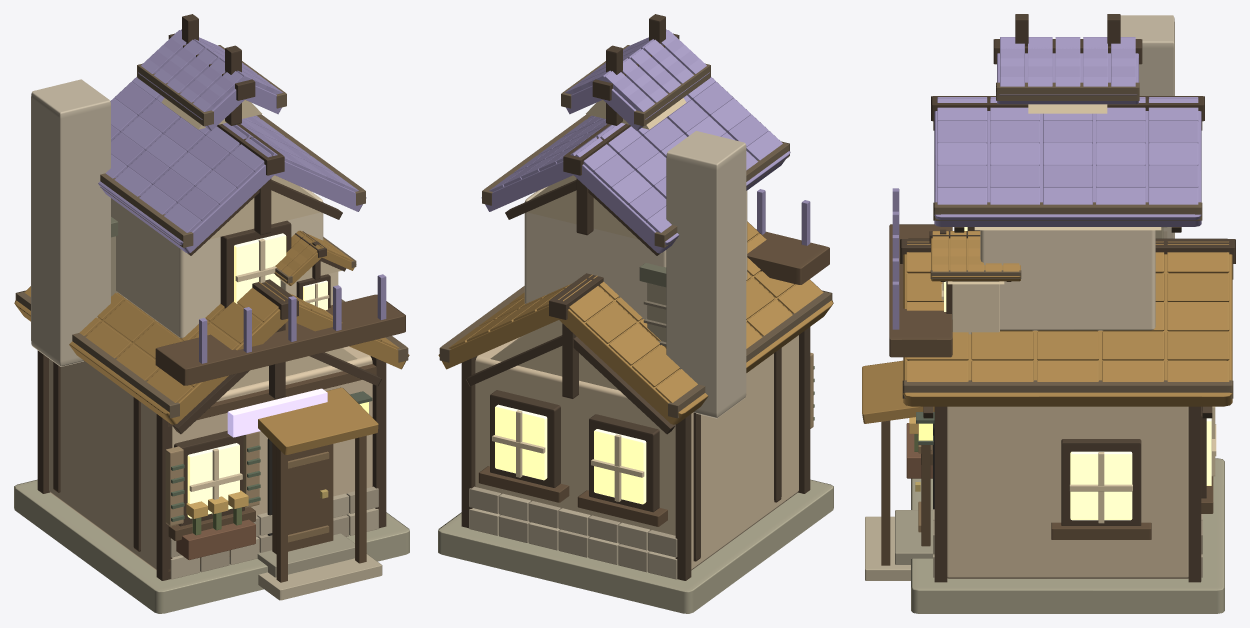
File: workshop-3.glb
The picture shows the model from 3 angles, left to right: view 1: azimuth 30°, elevation 25°; view 2: azimuth 150°, elevation 25°; view 3: azimuth 270°, elevation 25°; orthographic projection. The views are drawn at different scales.
Parts seen in each view (by area): view 1: workshop-0-3, door-hinge; view 2: workshop-0-3; view 3: workshop-0-3, door-hinge.
Boxes of the visible parts, x1,y1,x2,y2 form: workshop-0-3: (14, 14, 409, 613); door-hinge: (272, 443, 333, 554); workshop-0-3: (438, 14, 833, 613); workshop-0-3: (862, 14, 1235, 613); door-hinge: (915, 424, 930, 546).
Bounding box in the file's own units: 1.91 × 3.51 × 2.24.
